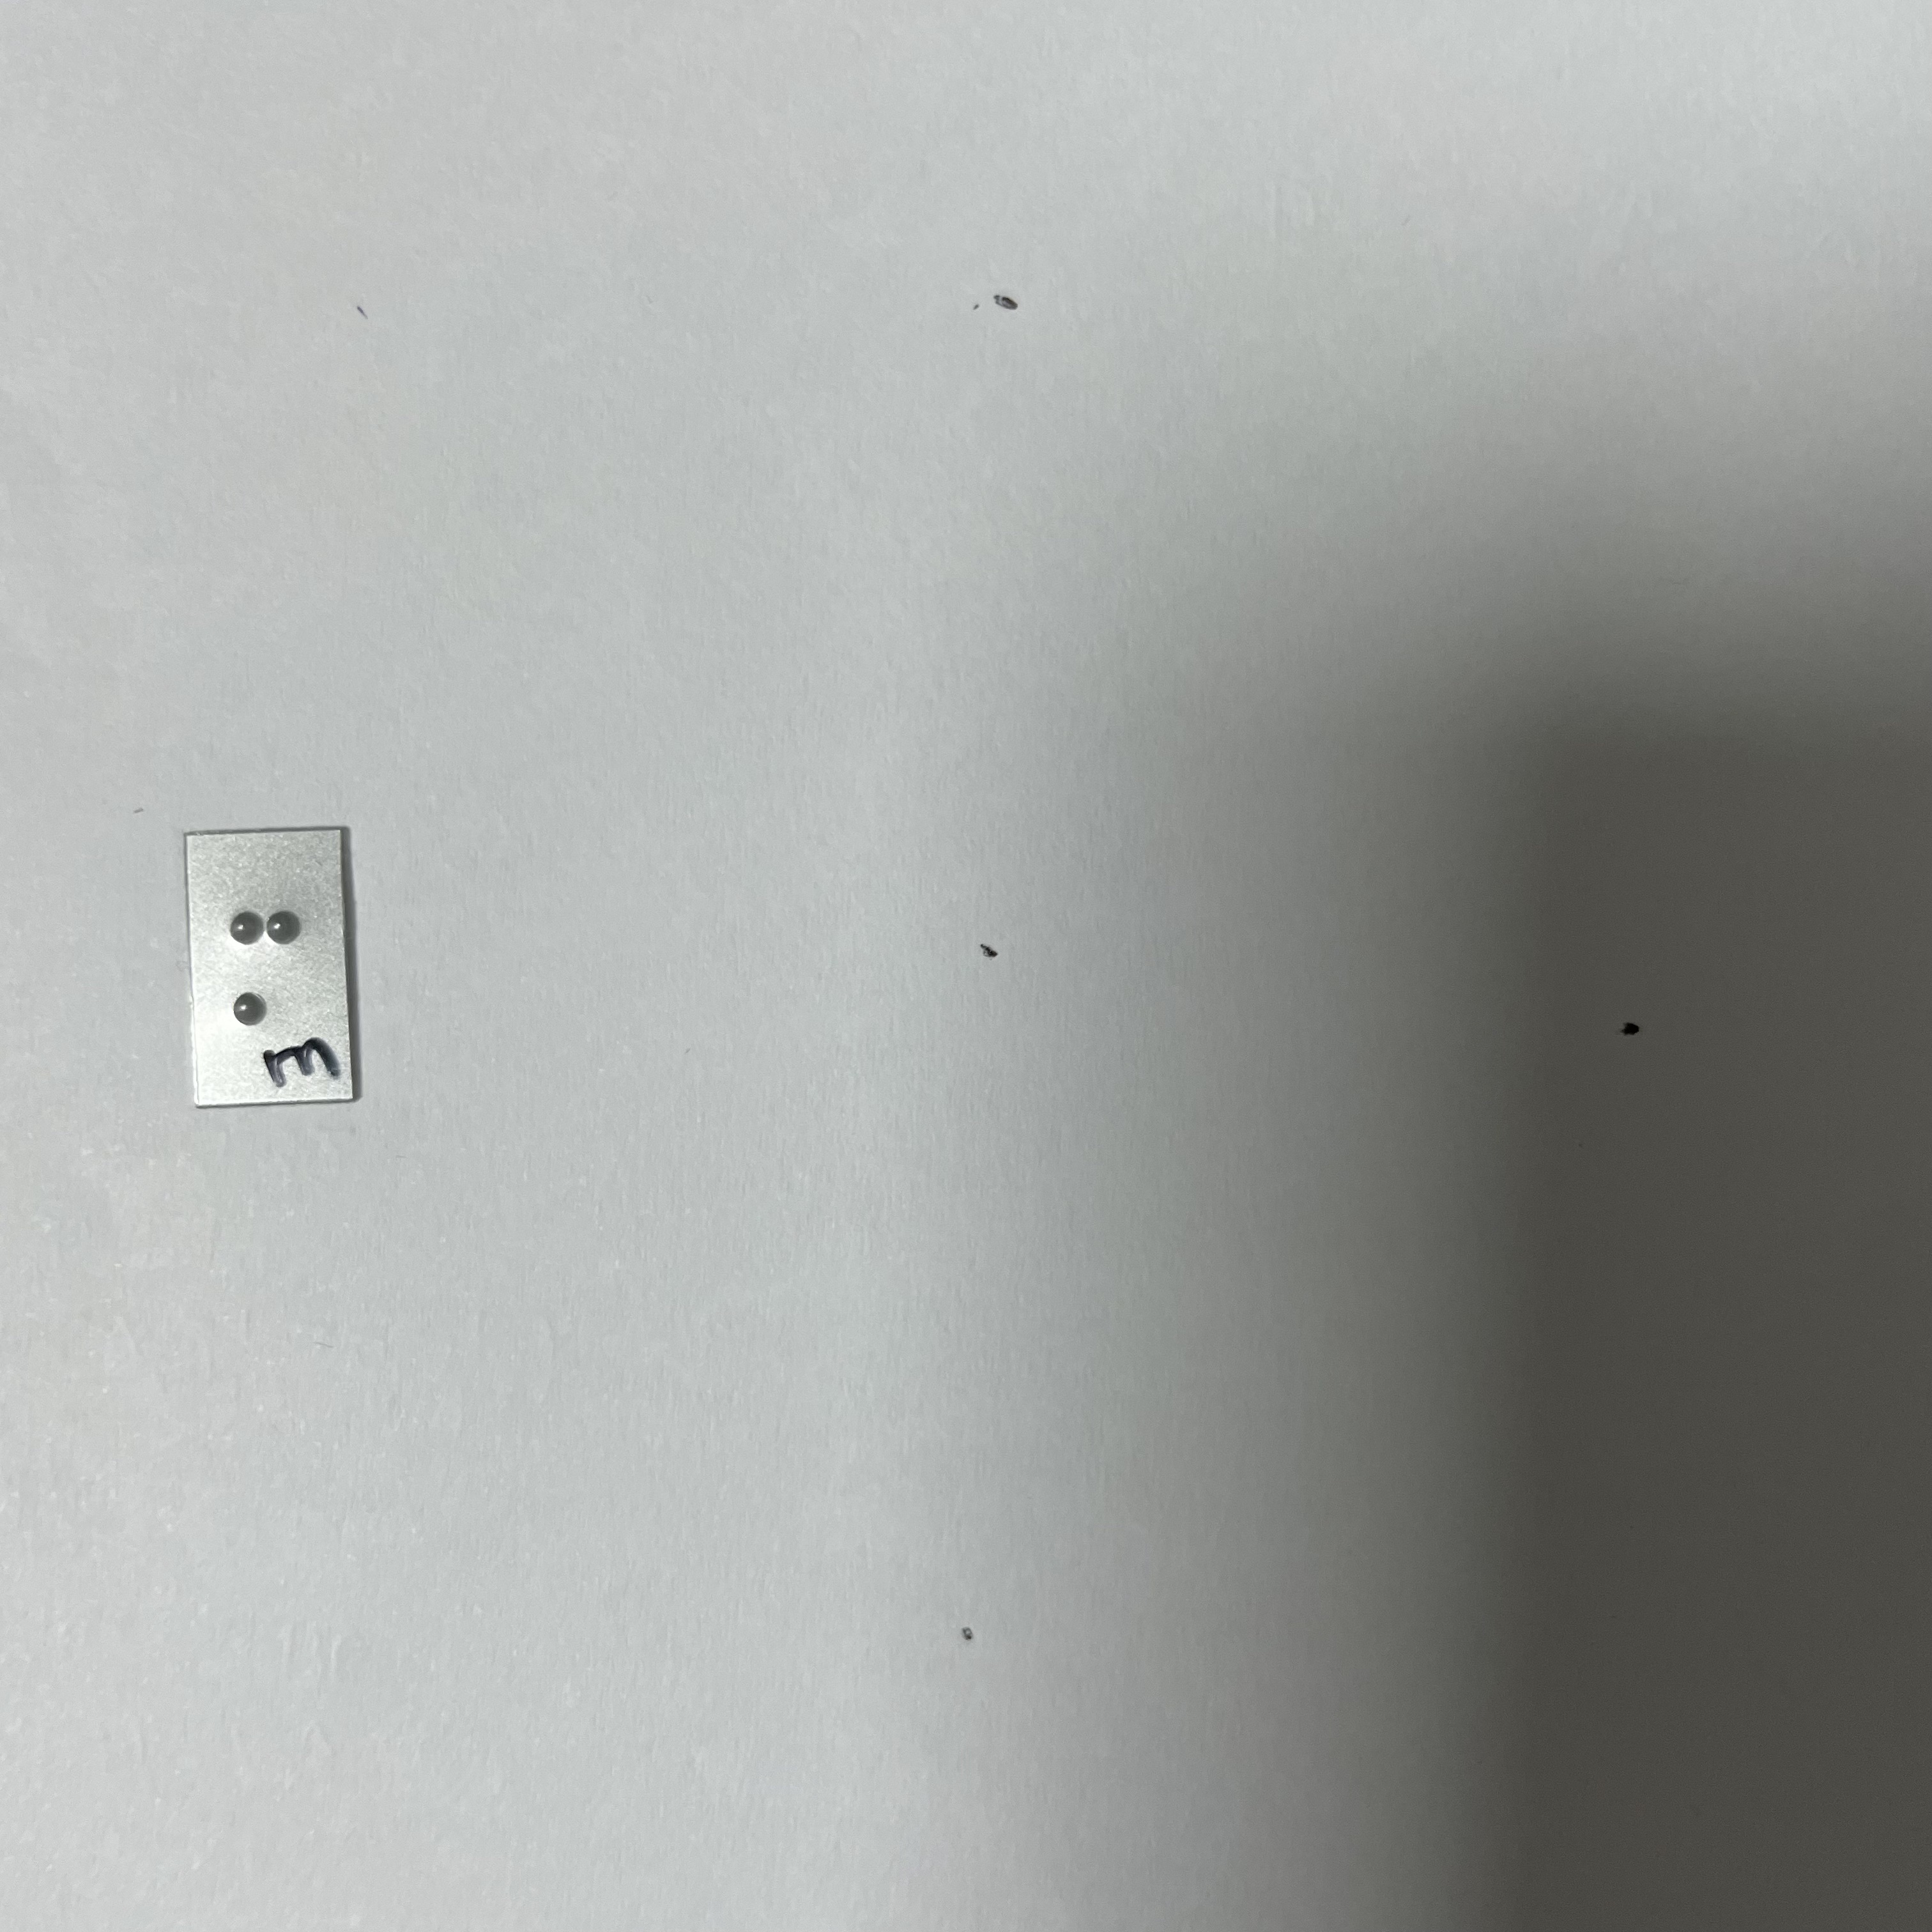m: (213, 900, 326, 1037)
